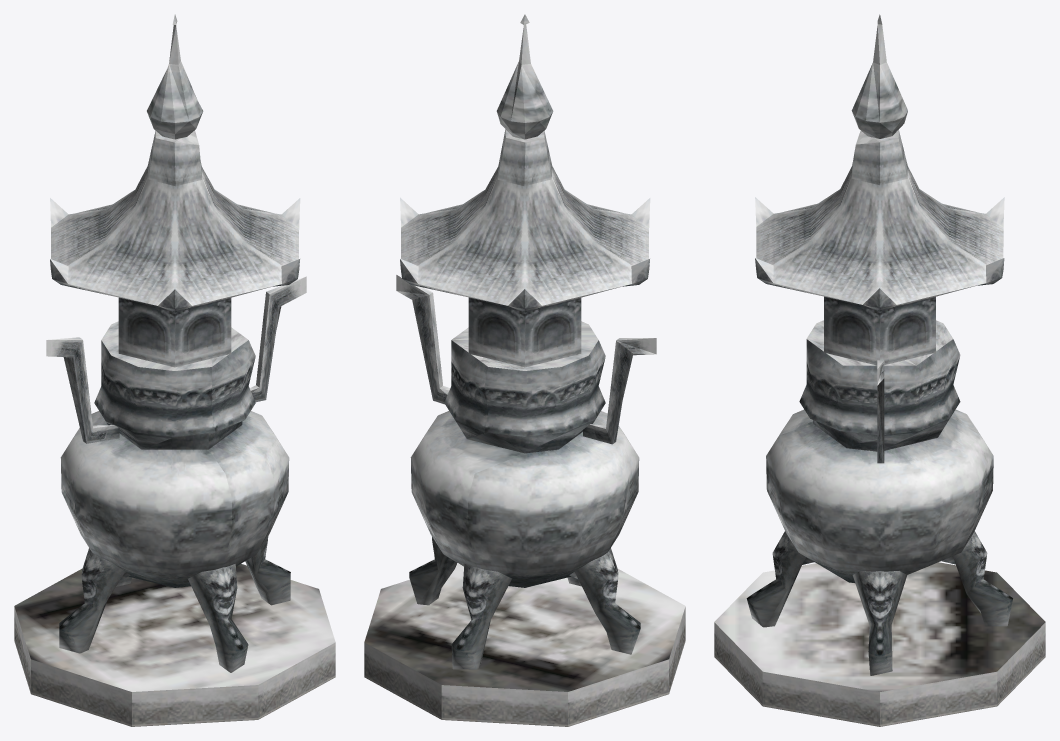
File: snow_brazier_lod_01.glb
3 renders of one model, left to right at view 1: azimuth 30°, elevation 25°; view 2: azimuth 150°, elevation 25°; view 3: azimuth 270°, elevation 25°, orthographic.
Parts seen in each view (by area): view 1: ob_brazier_02, ob_brazier_01; view 2: ob_brazier_02, ob_brazier_01; view 3: ob_brazier_02, ob_brazier_01.
Boxes of the visible parts, box(x1,y1,x2,y2) form: ob_brazier_02: box(14, 14, 335, 726); ob_brazier_01: box(46, 276, 306, 587); ob_brazier_02: box(364, 14, 685, 726); ob_brazier_01: box(396, 274, 656, 587); ob_brazier_02: box(714, 14, 1045, 726); ob_brazier_01: box(766, 320, 993, 582).
Size of the model in its own units: 2.06 by 4.42 by 2.06.
2 materials, 2 textured.
